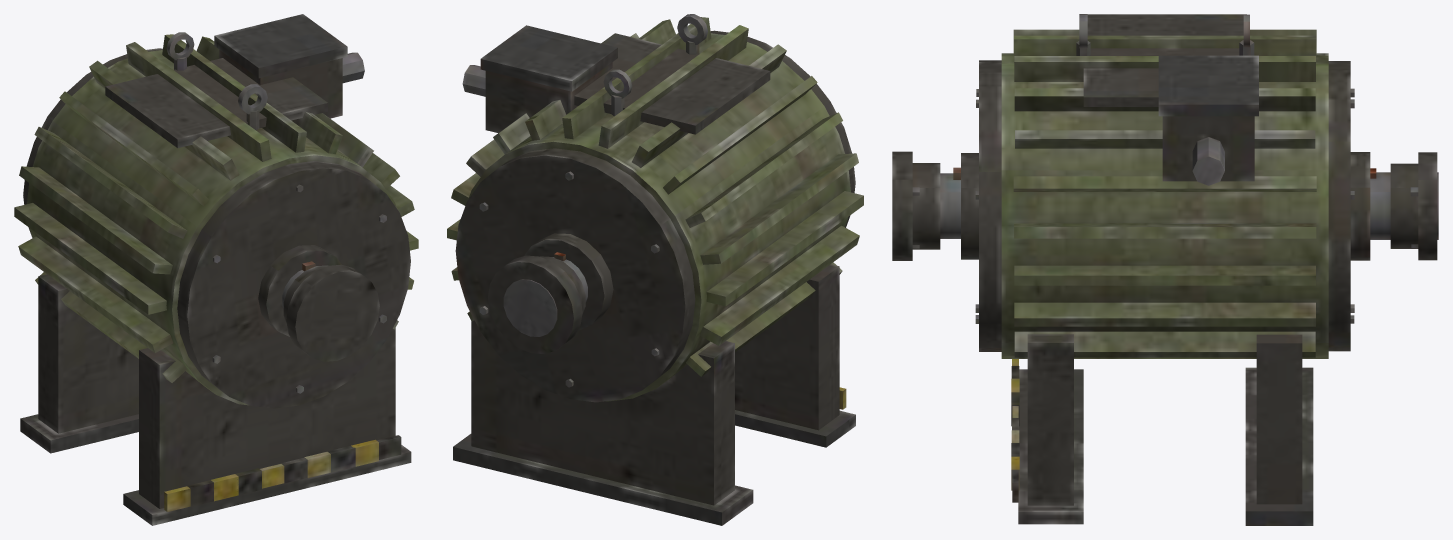
File: feElectricMotor2.glb
3 views of the same model, side by side, from view 1: azimuth 30°, elevation 25°; view 2: azimuth 150°, elevation 25°; view 3: azimuth 270°, elevation 25° (orthographic). The views are drawn at different scales.
Visible parts, largest first — view 1: feElectricMotor2_Base, FeSpin_Motor2; view 2: feElectricMotor2_Base, FeSpin_Motor2; view 3: feElectricMotor2_Base, FeSpin_Motor2.
Boxes of the visible parts, bbox=[...] form: feElectricMotor2_Base: bbox=[14, 14, 418, 525]; FeSpin_Motor2: bbox=[282, 261, 379, 361]; feElectricMotor2_Base: bbox=[447, 14, 863, 525]; FeSpin_Motor2: bbox=[488, 252, 587, 353]; feElectricMotor2_Base: bbox=[961, 14, 1370, 525]; FeSpin_Motor2: bbox=[892, 151, 1438, 260].
Bounding box in the file's own units: 0.7076 × 0.8889 × 1.
Materials: 1 (1 with a texture image).
